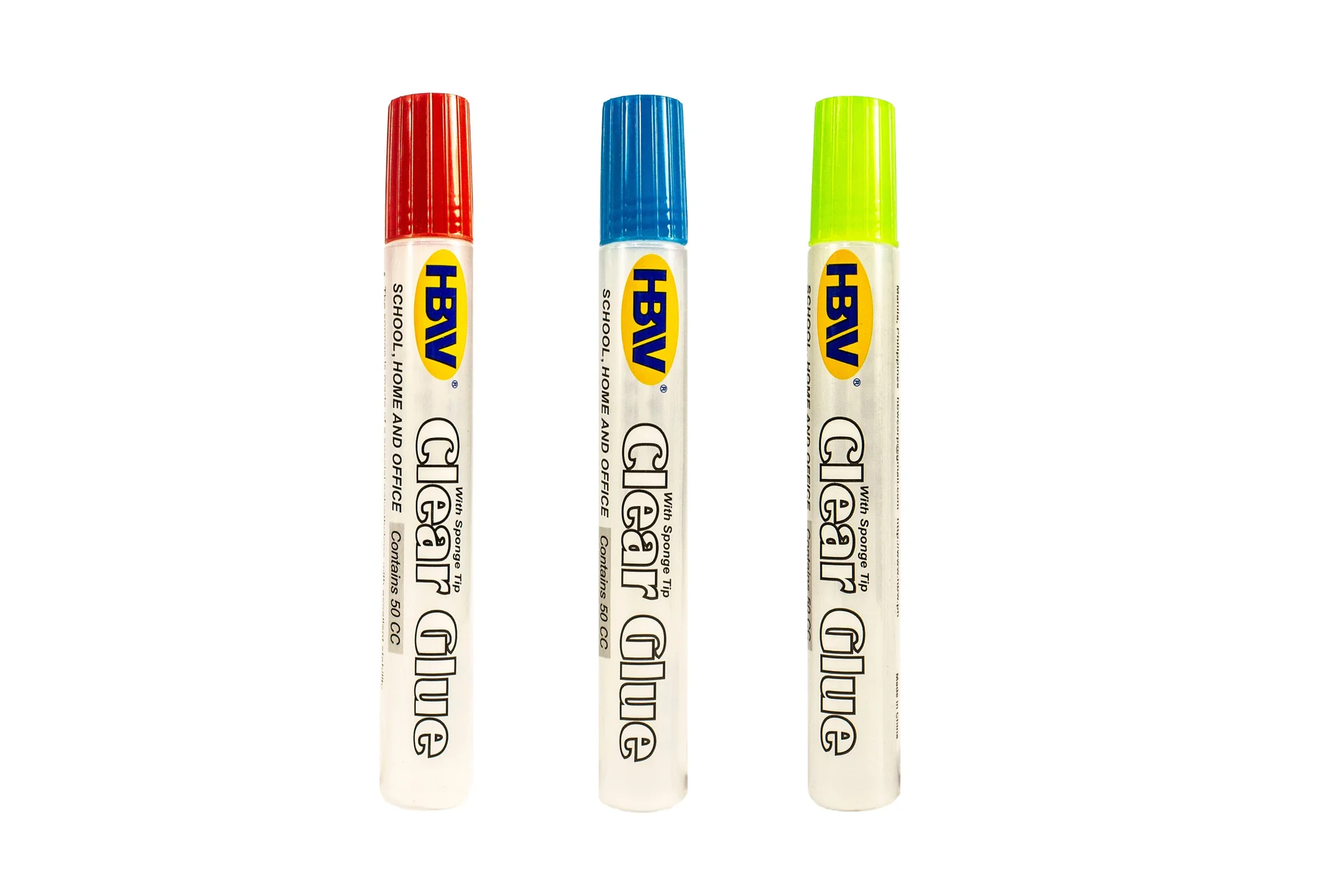toxic_waste: (581, 88, 718, 811), (366, 88, 488, 818), (796, 81, 905, 816)
